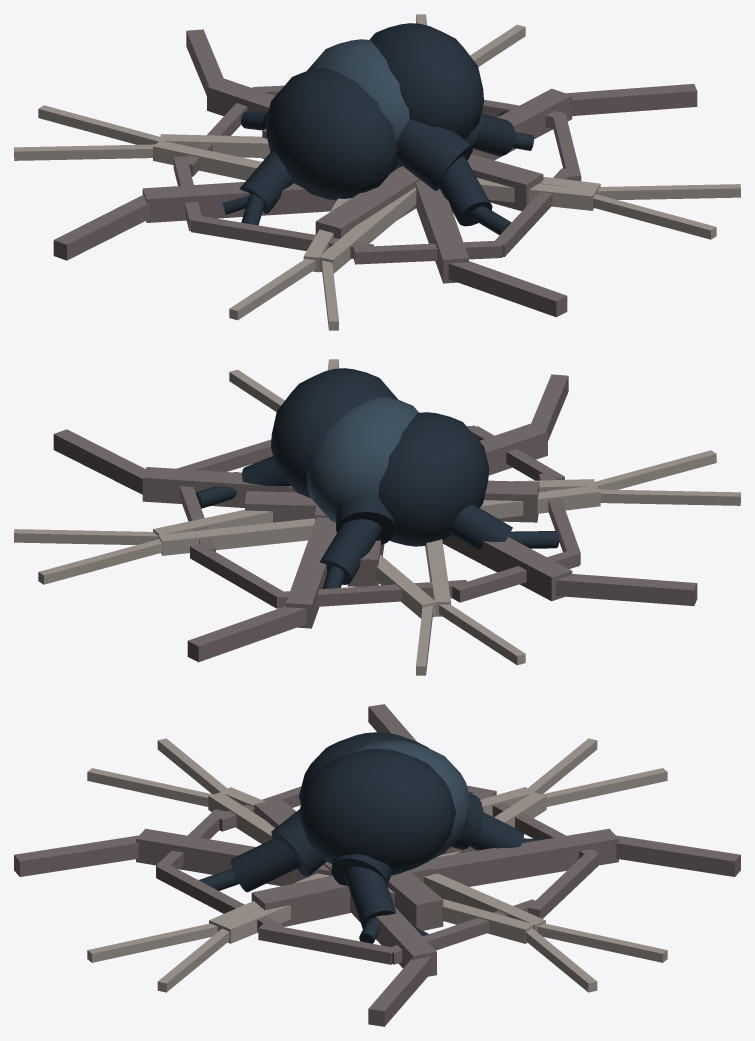
The model's file is CMU3DHiveCMU14XenoMyceliumWeedsSourceHidden.glb.
3 renders of one model, top to bottom at view 1: azimuth 30°, elevation 25°; view 2: azimuth 150°, elevation 25°; view 3: azimuth 270°, elevation 25°, orthographic.
Visible parts, largest first — view 1: connected ground rhizome (×10), overlapping root node (×3), forked ground filament (×12), interwoven root loop (×7), sinuous anchoring root (×5); view 2: connected ground rhizome (×11), overlapping root node (×3), forked ground filament (×13), interwoven root loop (×7), sinuous anchoring root (×6); view 3: connected ground rhizome (×10), forked ground filament (×15), overlapping root node (×3), interwoven root loop (×7), sinuous anchoring root (×6).
Part boxes in pixels (x1,y1,x2,y2): connected ground rhizome (×10): (53,29,697,317); overlapping root node (×3): (265,23,483,200); forked ground filament (×12): (14,24,740,330); interwoven root loop (×7): (173,99,581,264); sinuous anchoring root (×5): (240,114,515,235); connected ground rhizome (×11): (53,374,697,662); overlapping root node (×3): (271,368,489,546); forked ground filament (×13): (14,369,740,675); interwoven root loop (×7): (177,426,580,608); sinuous anchoring root (×6): (196,456,559,584); connected ground rhizome (×10): (14,704,740,1026); forked ground filament (×15): (87,738,667,992); overlapping root node (×3): (299,732,471,875); interwoven root loop (×7): (156,786,598,964); sinuous anchoring root (×6): (230,793,524,928).
Size of the model in its own units: 1.02 by 0.221 by 1.02.
